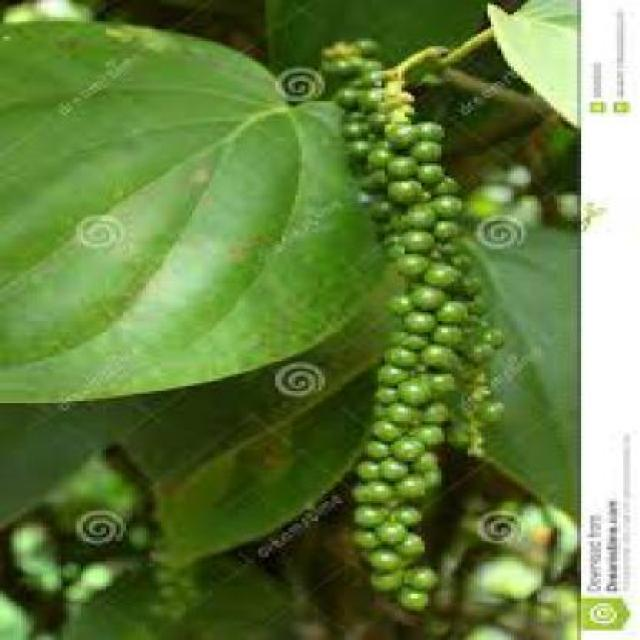UNRIPE: (309, 17, 514, 620)
